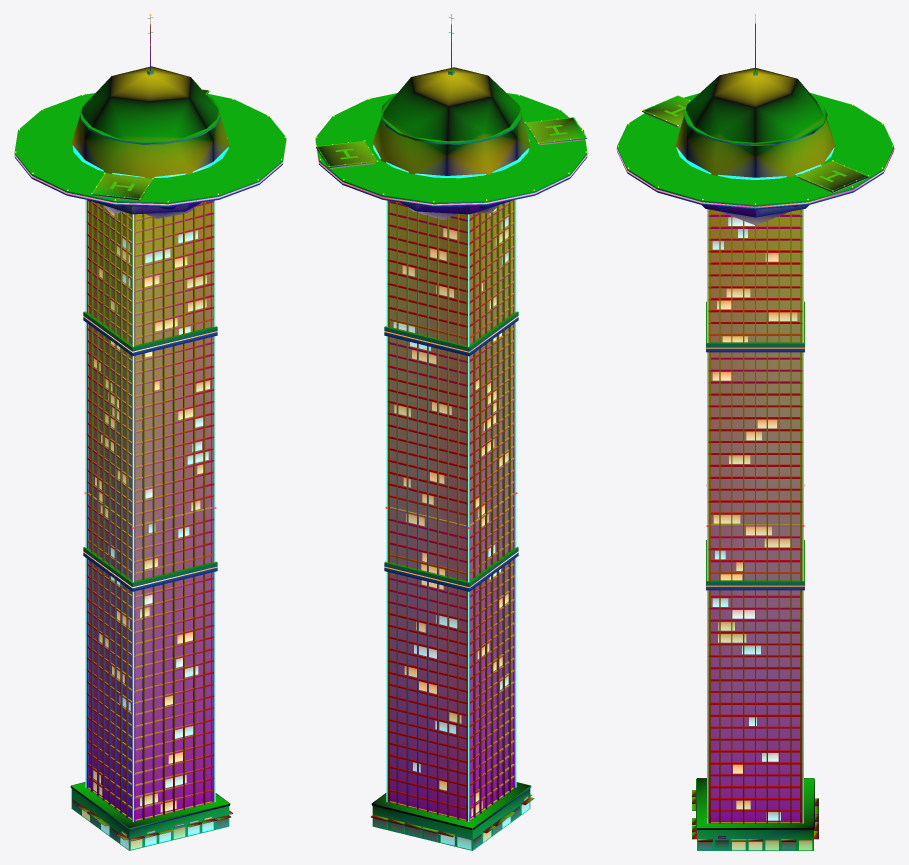
Rendered from Landmark_Orb.fbx.
3 renders of one model, left to right at view 1: azimuth 30°, elevation 25°; view 2: azimuth 150°, elevation 25°; view 3: azimuth 270°, elevation 25°, orthographic.
Parts seen in each view (by area): view 1: Landmark_Orb_LOD0; view 2: Landmark_Orb_LOD0; view 3: Landmark_Orb_LOD0.
Part boxes in pixels (box(x1,y1,x2,y2)): Landmark_Orb_LOD0: box(14, 14, 286, 850); Landmark_Orb_LOD0: box(315, 14, 587, 850); Landmark_Orb_LOD0: box(616, 14, 894, 850).
Size of what is drawn, in the model's own units: 76.2 by 246 by 76.2.
